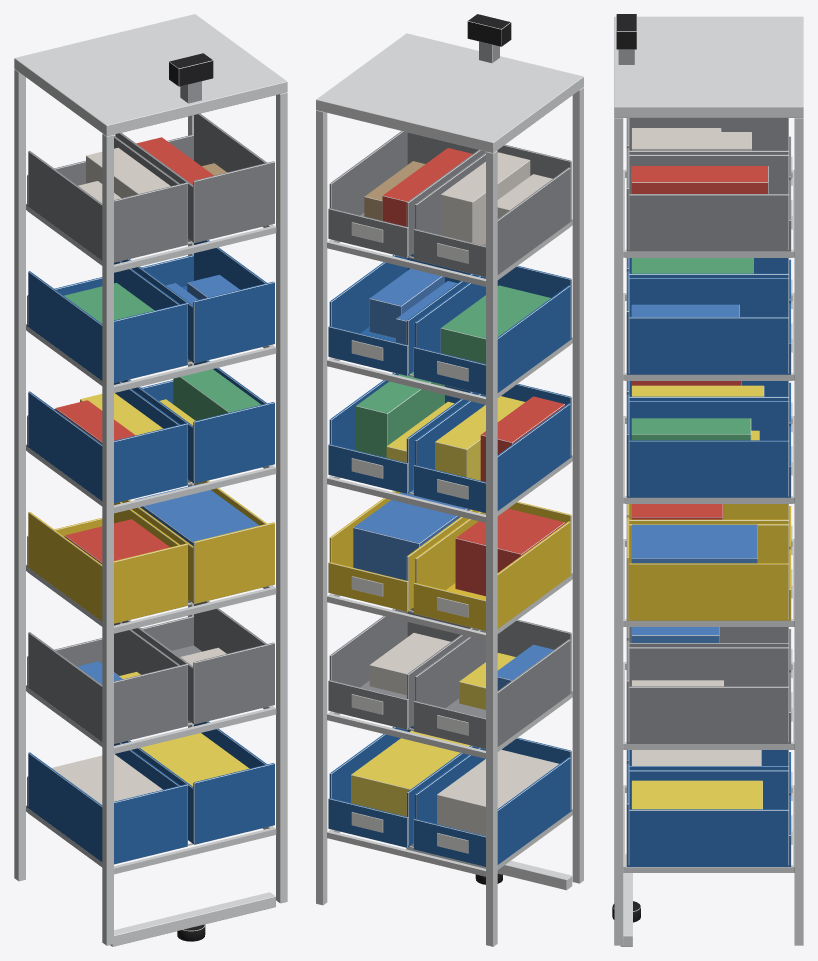
File: carousel_hcarrier_v2.fbx
3 renders of one model, left to right at view 1: azimuth 30°, elevation 25°; view 2: azimuth 150°, elevation 25°; view 3: azimuth 270°, elevation 25°, orthographic. The views are drawn at different scales.
Parts seen in each view (by area): view 1: HCarrier_v2, HCarrier_v2_Wire; view 2: HCarrier_v2, HCarrier_v2_Wire; view 3: HCarrier_v2, HCarrier_v2_Wire.
Part boxes in pixels (left/top/right/bottom): HCarrier_v2: left=14, top=14, right=287, bottom=946; HCarrier_v2_Wire: left=26, top=203, right=276, bottom=874; HCarrier_v2: left=316, top=14, right=583, bottom=946; HCarrier_v2_Wire: left=327, top=219, right=572, bottom=876; HCarrier_v2: left=612, top=14, right=803, bottom=946; HCarrier_v2_Wire: left=623, top=169, right=794, bottom=872.
Size of the model in its own units: 0.52 by 2.4 by 0.465.
